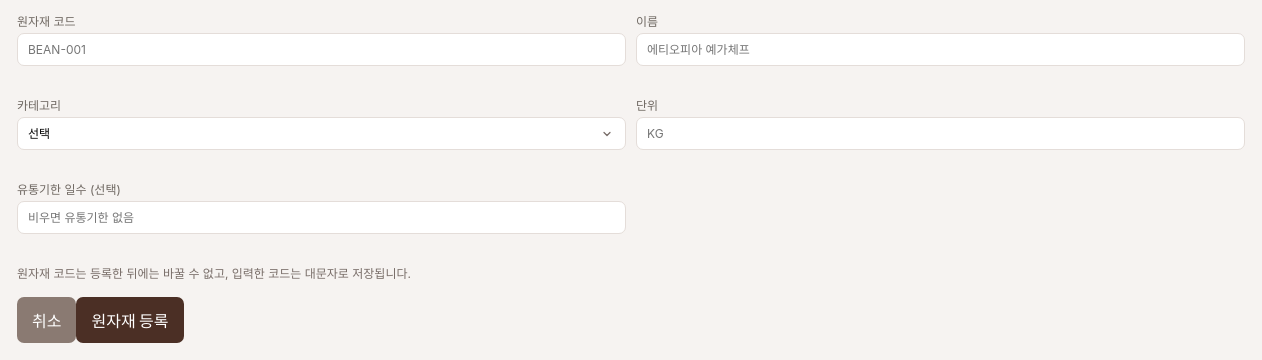
Test: MaterialForm › 비어 있는 채로 제출하면 요청하지 않고 필드별 오류를 보여주며 첫 오류 필드에 포커스한다
The image size is (1262, 360).
What coordinates should you click on to do the following:
click the button "원자재 등록"
I would click on:
 (130, 320)
Its box is top-left (76, 297), bottom-right (184, 343).
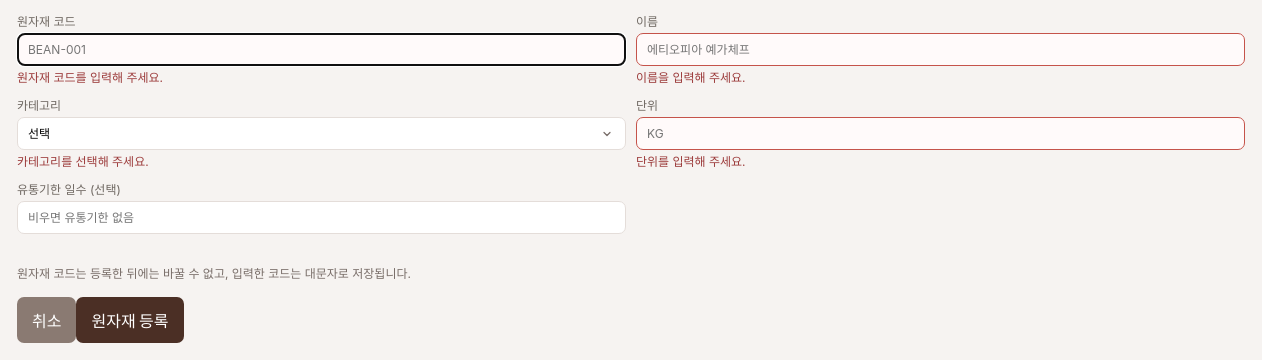
Now the text "원자재 코드를 입력해 주세요." is shown, box top-left (17, 70), bottom-right (163, 85)
Now the text "이름을 입력해 주세요." is shown, box top-left (636, 70), bottom-right (746, 85)
Now the text "카테고리를 선택해 주세요." is shown, box top-left (17, 154), bottom-right (149, 169)
